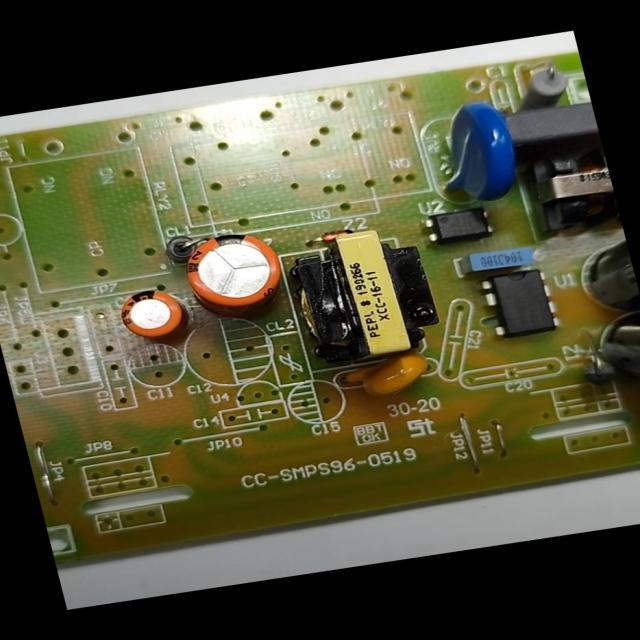Cap1: (168, 224, 290, 319)
Cap2: (113, 283, 191, 345)
Cap3: (562, 222, 640, 322)
Cap4: (589, 310, 639, 402)
MOSFET: (476, 264, 564, 340)
Mov: (418, 93, 530, 210)
Resistor: (508, 59, 584, 111)
Transformer: (284, 222, 451, 374), (514, 140, 622, 238)
